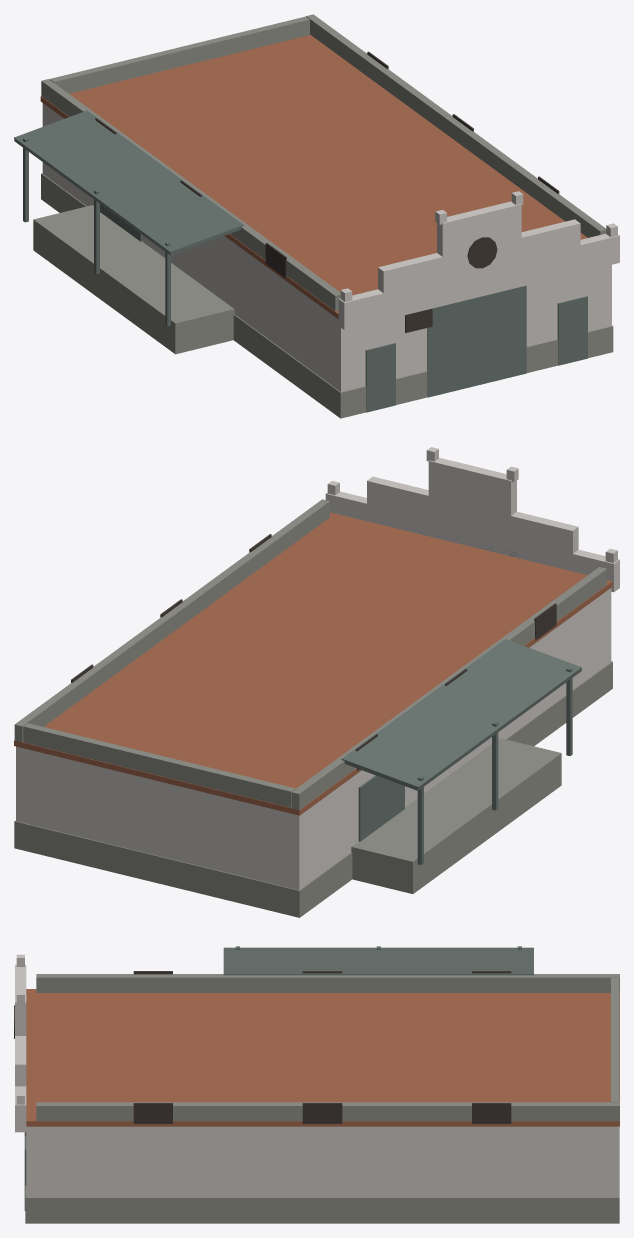
The model's file is SM_Cooperativa_v1_AlmacenMuelle_LOD0.fbx.
3 views of the same model, one above another, from view 1: azimuth 30°, elevation 25°; view 2: azimuth 150°, elevation 25°; view 3: azimuth 270°, elevation 25° (orthographic). The views are drawn at different scales.
Visible parts, largest first — view 1: SM_bloques.cooperativa_v1_LOD0; view 2: SM_bloques.cooperativa_v1_LOD0; view 3: SM_bloques.cooperativa_v1_LOD0.
Part boxes in pixels (bbox=[...]): SM_bloques.cooperativa_v1_LOD0: bbox=[14, 14, 619, 418]; SM_bloques.cooperativa_v1_LOD0: bbox=[14, 447, 619, 917]; SM_bloques.cooperativa_v1_LOD0: bbox=[14, 946, 619, 1223].
Size of the model in its own units: 14 by 7.15 by 21.49.
